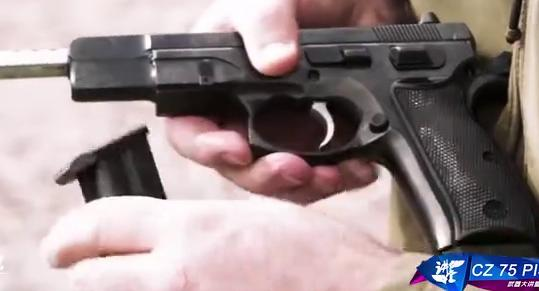gun: (1, 1, 539, 291)
